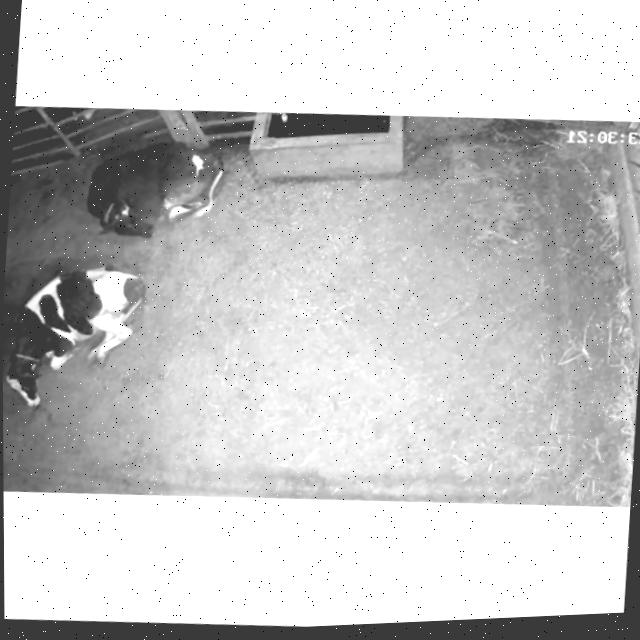lay: (2, 239, 163, 424), (72, 127, 229, 253)
